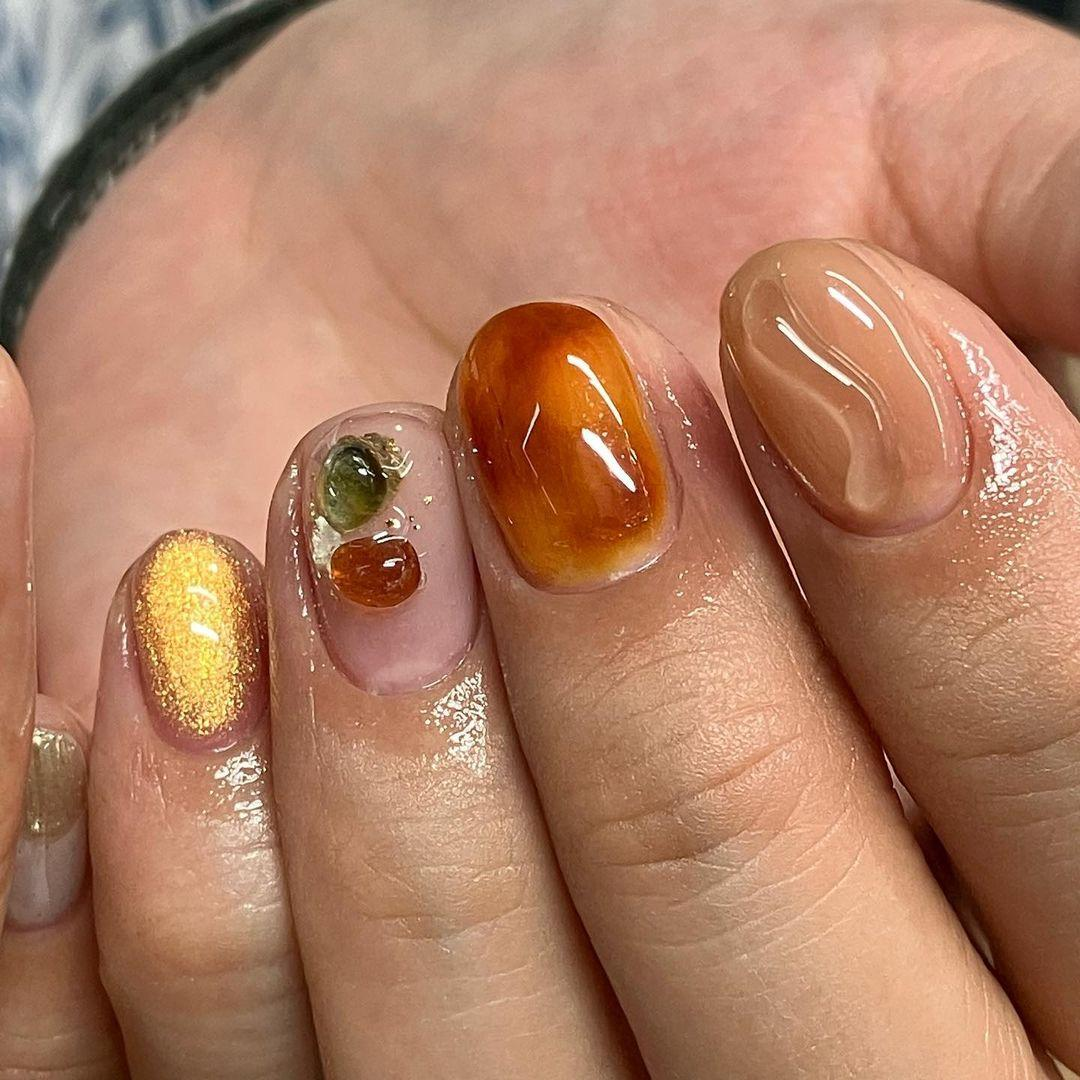nail: (718, 234, 976, 537), (447, 294, 684, 595), (283, 398, 480, 697), (127, 526, 270, 754), (5, 723, 88, 930)
